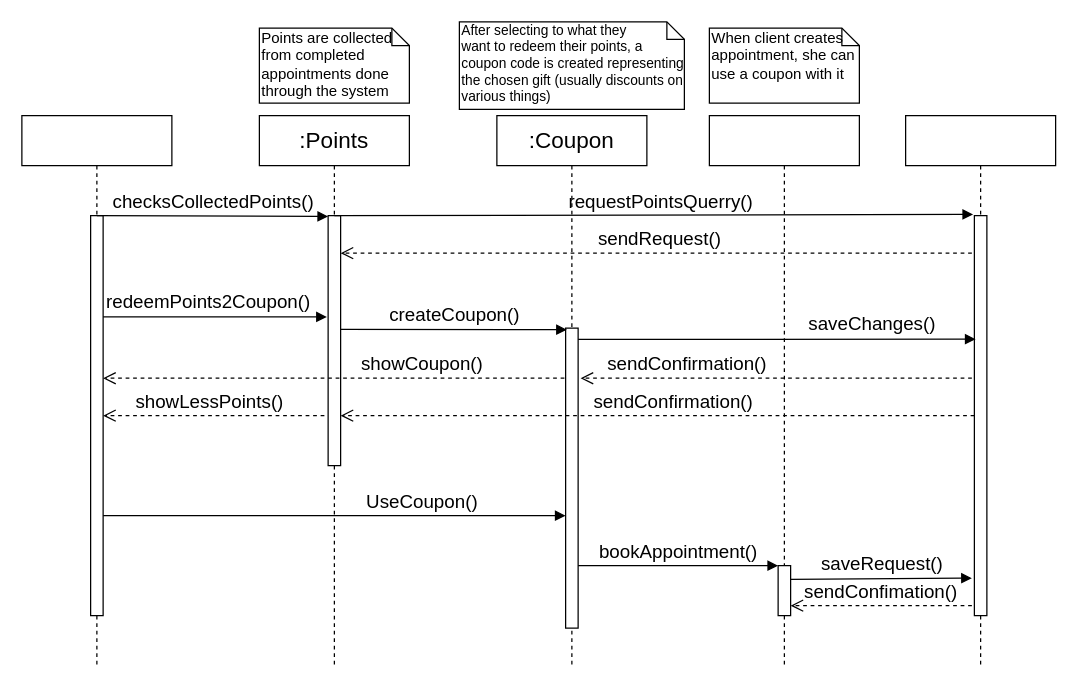
This 1078x688 diagram has some shape labels left out. Here are the shapes that lost their labels. From the top down, the box of each, then its label:
(21, 114, 172, 666): :Client
(708, 114, 859, 666): :Appointment
(904, 114, 1056, 666): :Database
